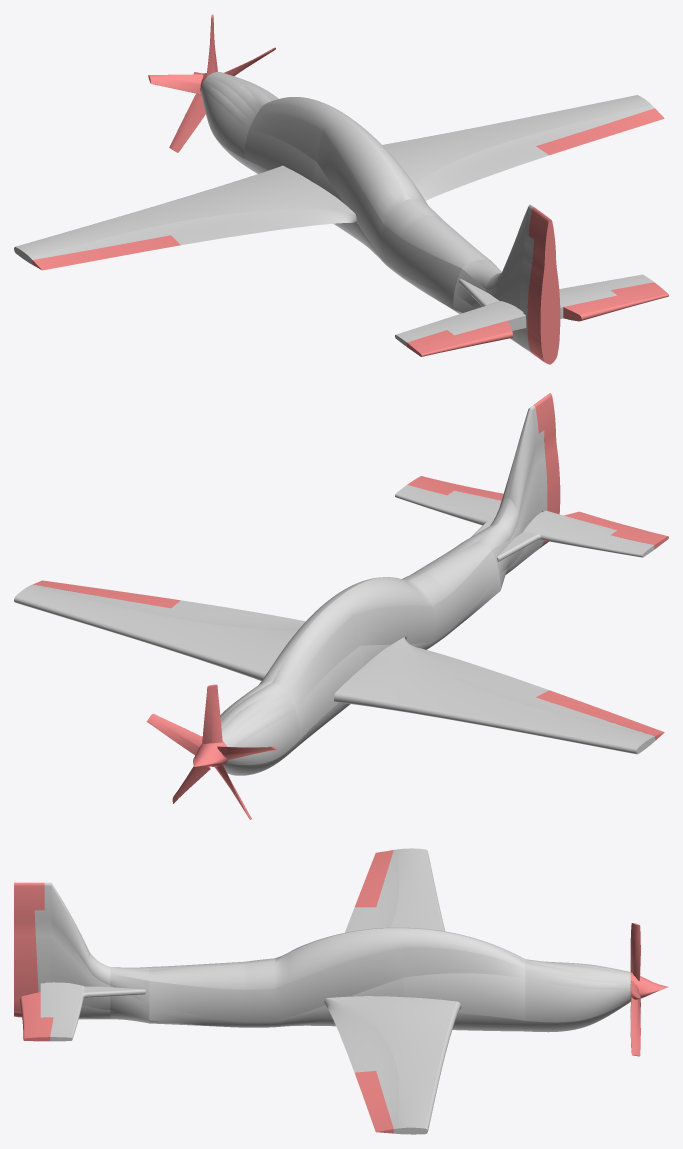
Rendered from aviao_anima.glb.
3 views of the same model, one above another, from view 1: azimuth 30°, elevation 25°; view 2: azimuth 150°, elevation 25°; view 3: azimuth 270°, elevation 25° (orthographic). The views are drawn at different scales.
Visible parts, largest first — view 1: Fuselagem.001, Asa Esquerda, Asa Direita, Leme.001, Estabilizador Esquerdo, Profundor Direito.001, Profundor Esquerdo.001, Aileron Esquedo, Aileron Direito, Estabilizador Direito.001, Helice4, Helice5; view 2: Fuselagem.001, Asa Esquerda, Asa Direita, Estabilizador Esquerdo, Estabilizador Direito.001, Leme.001, Aileron Esquedo, Aileron Direito, Profundor Esquerdo.001, Helice1, Helice2, Profundor Direito.001 (+1 smaller); view 3: Fuselagem.001, Asa Direita, Asa Esquerda, Leme.001, Estabilizador Direito.001, Aileron Direito, Profundor Direito.001, Aileron Esquedo, Helice3, Helice1, Motor.001.
Part boxes in pixels (left/top/right/bottom): Fuselagem.001: left=201, top=72, right=533, bottom=353; Asa Esquerda: left=14, top=165, right=356, bottom=264; Asa Direita: left=382, top=95, right=654, bottom=200; Leme.001: left=527, top=207, right=560, bottom=364; Estabilizador Esquerdo: left=395, top=278, right=526, bottom=346; Profundor Direito.001: left=563, top=282, right=668, bottom=321; Profundor Esquerdo.001: left=407, top=320, right=512, bottom=356; Aileron Esquedo: left=32, top=235, right=180, bottom=270; Aileron Direito: left=536, top=108, right=664, bottom=155; Estabilizador Direito.001: left=559, top=274, right=653, bottom=318; Helice4: left=169, top=93, right=205, bottom=152; Helice5: left=148, top=74, right=203, bottom=94; Fuselagem.001: left=220, top=405, right=547, bottom=775; Asa Esquerda: left=334, top=637, right=655, bottom=754; Asa Direita: left=14, top=584, right=305, bottom=680; Estabilizador Esquerdo: left=497, top=510, right=654, bottom=561; Estabilizador Direito.001: left=395, top=485, right=501, bottom=536; Leme.001: left=533, top=393, right=560, bottom=547; Aileron Esquedo: left=536, top=690, right=664, bottom=740; Aileron Direito: left=33, top=580, right=180, bottom=608; Profundor Esquerdo.001: left=564, top=511, right=668, bottom=549; Helice1: left=202, top=684, right=222, bottom=743; Helice2: left=146, top=713, right=202, bottom=755; Profundor Direito.001: left=407, top=476, right=503, bottom=500; Fuselagem.001: left=34, top=882, right=630, bottom=1032; Asa Direita: left=324, top=996, right=460, bottom=1134; Asa Esquerda: left=345, top=848, right=444, bottom=932; Leme.001: left=14, top=882, right=44, bottom=1017; Estabilizador Direito.001: left=40, top=982, right=145, bottom=1041; Aileron Direito: left=354, top=1071, right=393, bottom=1133; Profundor Direito.001: left=19, top=992, right=53, bottom=1041; Aileron Esquedo: left=355, top=850, right=393, bottom=907; Helice3: left=630, top=997, right=640, bottom=1056; Helice1: left=630, top=923, right=640, bottom=980; Motor.001: left=630, top=972, right=668, bottom=1001.
Size of the model in its own units: 0.00779 by 0.00205 by 0.00772.
